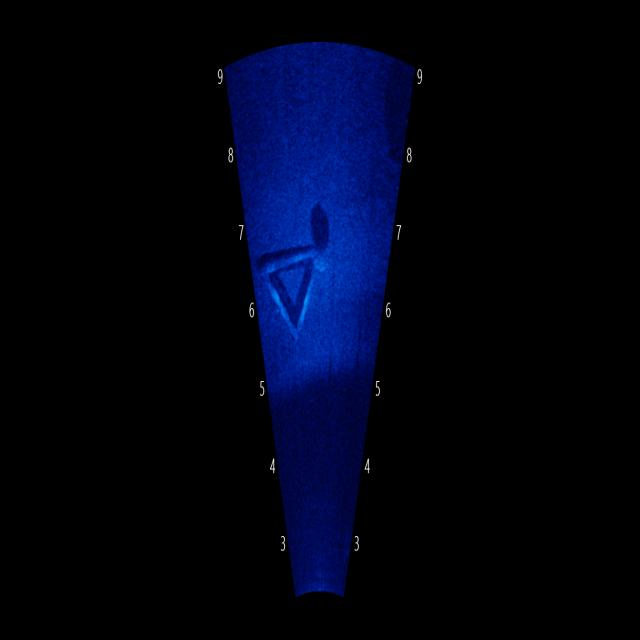triangle: (262, 190, 332, 376)
